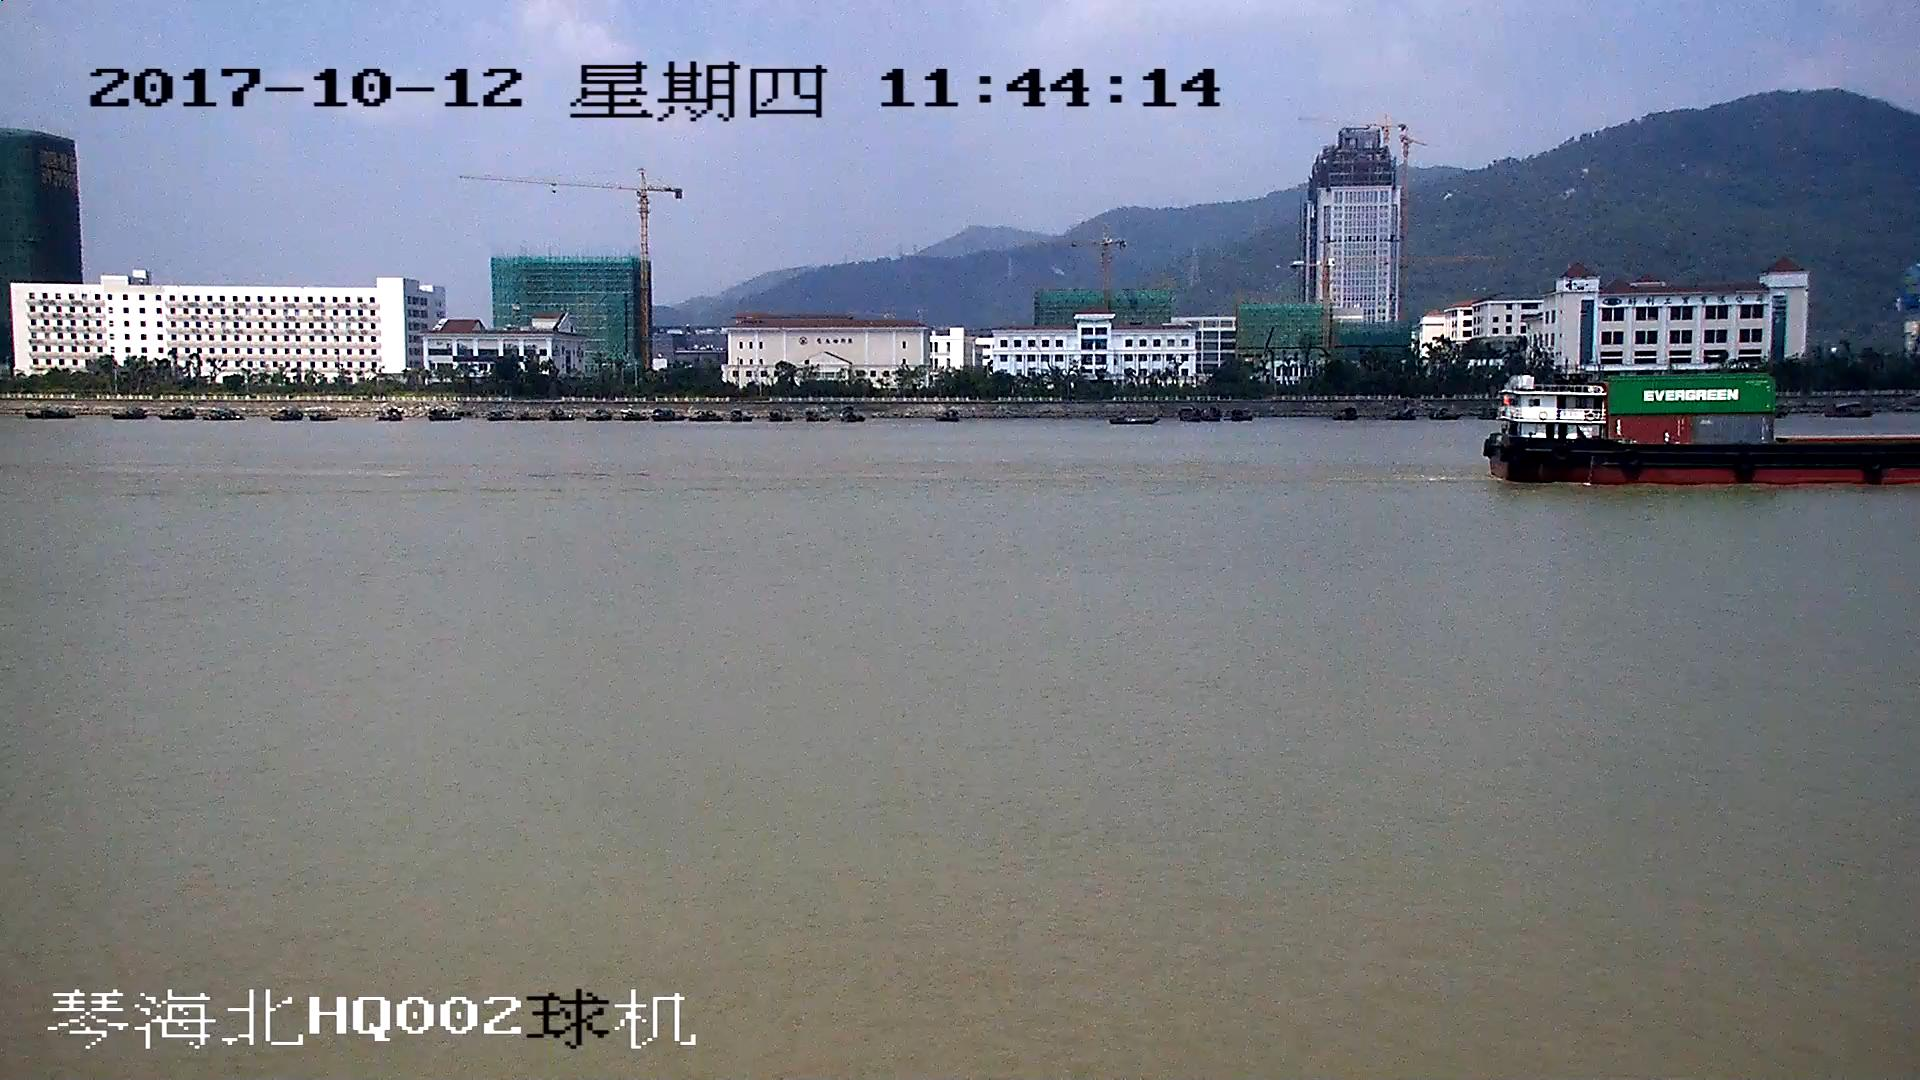container ship: (1491, 379, 1920, 481)
